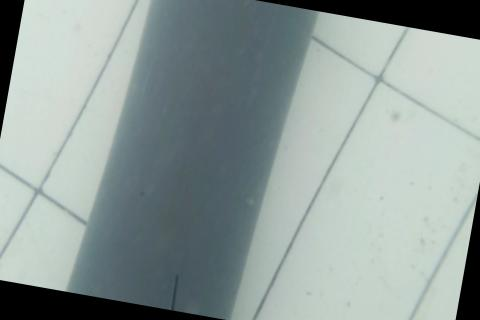keretakan: (167, 271, 184, 311)
